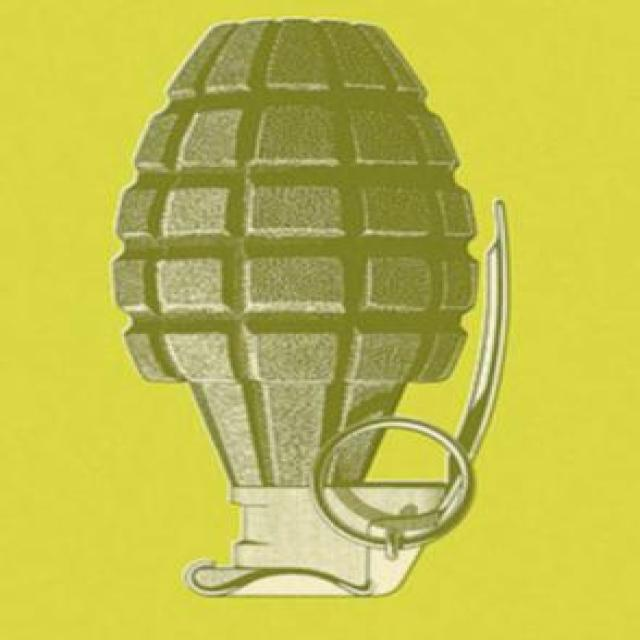grenade: (112, 20, 508, 599)
